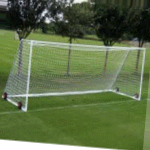goals: (2, 38, 147, 112)
